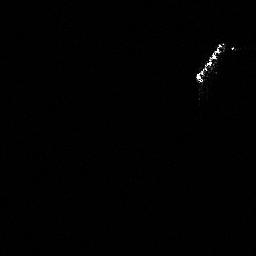ship: (195, 40, 238, 87)
